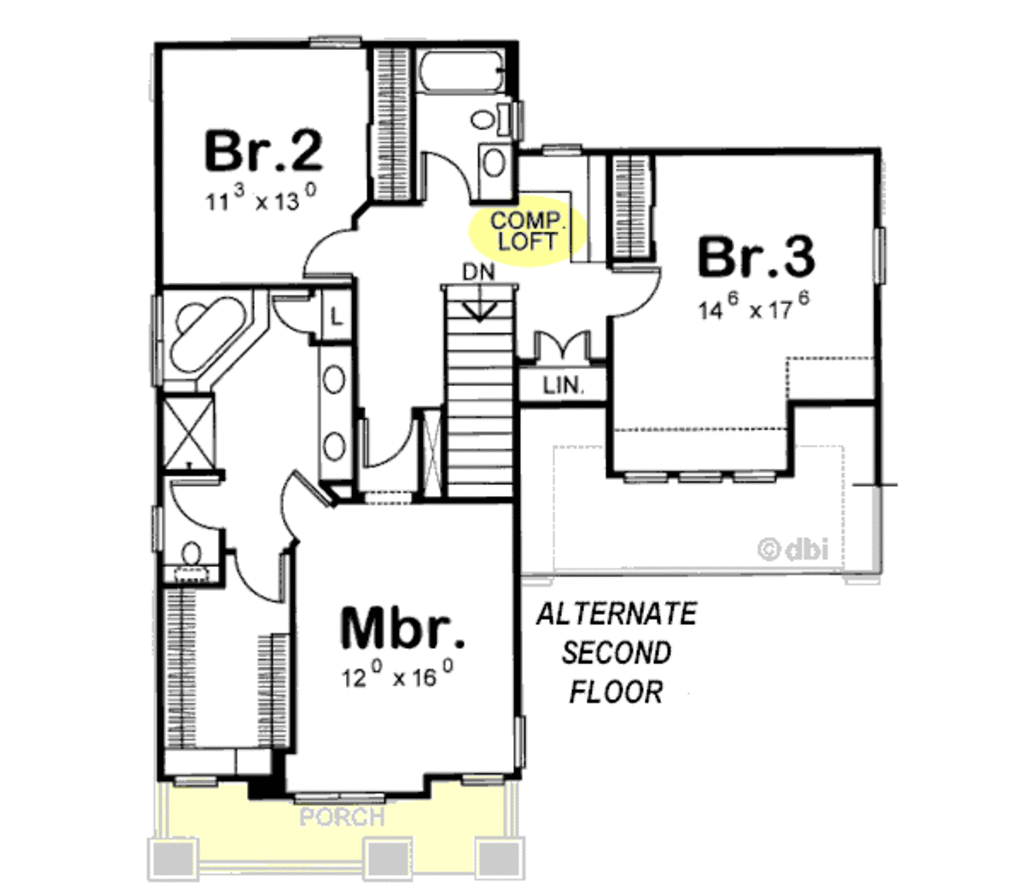door: (272, 464, 347, 549), (287, 224, 360, 283), (357, 410, 413, 479), (604, 264, 671, 321), (167, 477, 226, 538), (228, 549, 283, 612), (419, 142, 472, 203), (526, 324, 601, 366), (267, 287, 309, 336)
large_sink: (461, 98, 530, 140), (164, 534, 215, 583)
small_sink: (315, 336, 352, 482), (476, 143, 509, 198)
stairs: (427, 262, 535, 499)
tub: (395, 49, 517, 98)
window: (623, 461, 782, 488), (867, 213, 897, 287), (143, 294, 165, 391), (295, 787, 398, 805), (506, 701, 530, 773), (168, 765, 223, 794), (143, 498, 163, 551), (456, 765, 501, 786)
